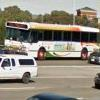Bus: (5, 13, 95, 60)
